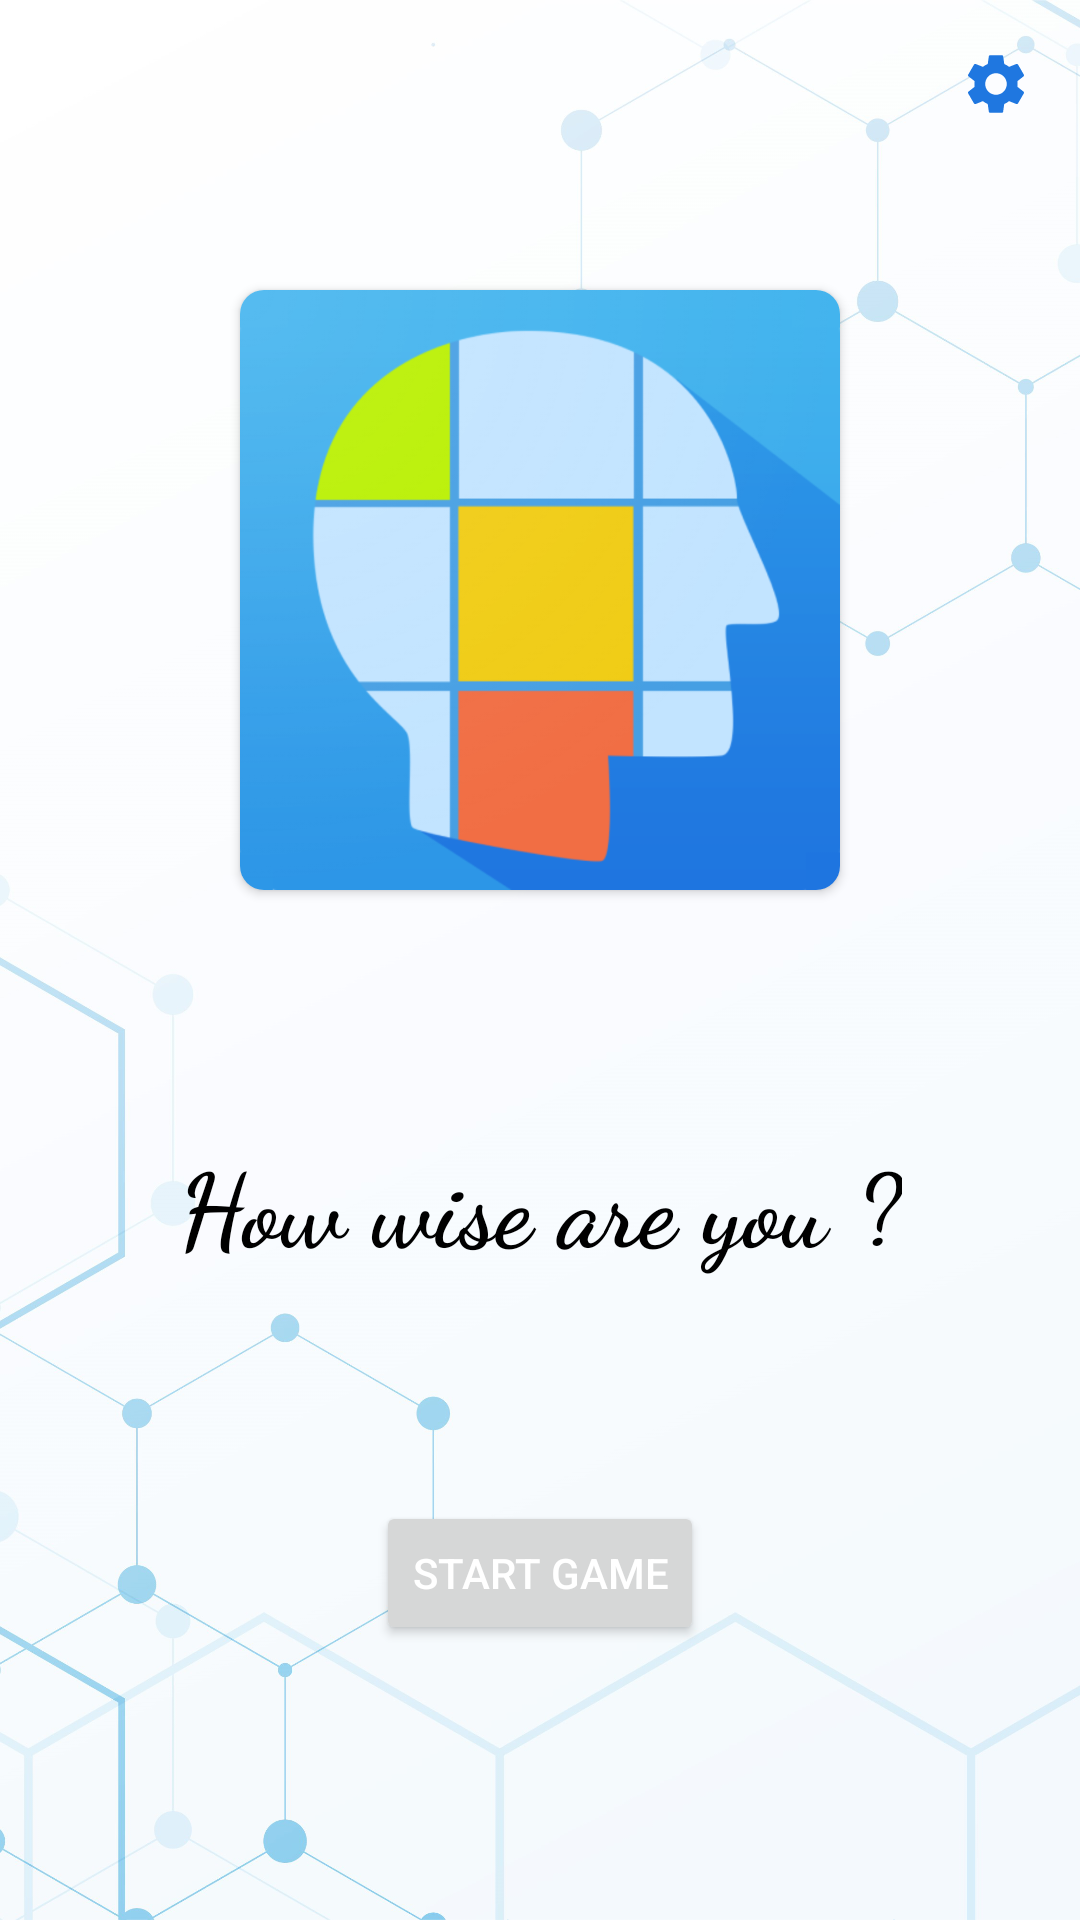

Screen size 1080w x 1920h. Icon name, then its box in pixels as (x1, y1, x2, y2):
Settings: (960, 48, 1032, 113)
